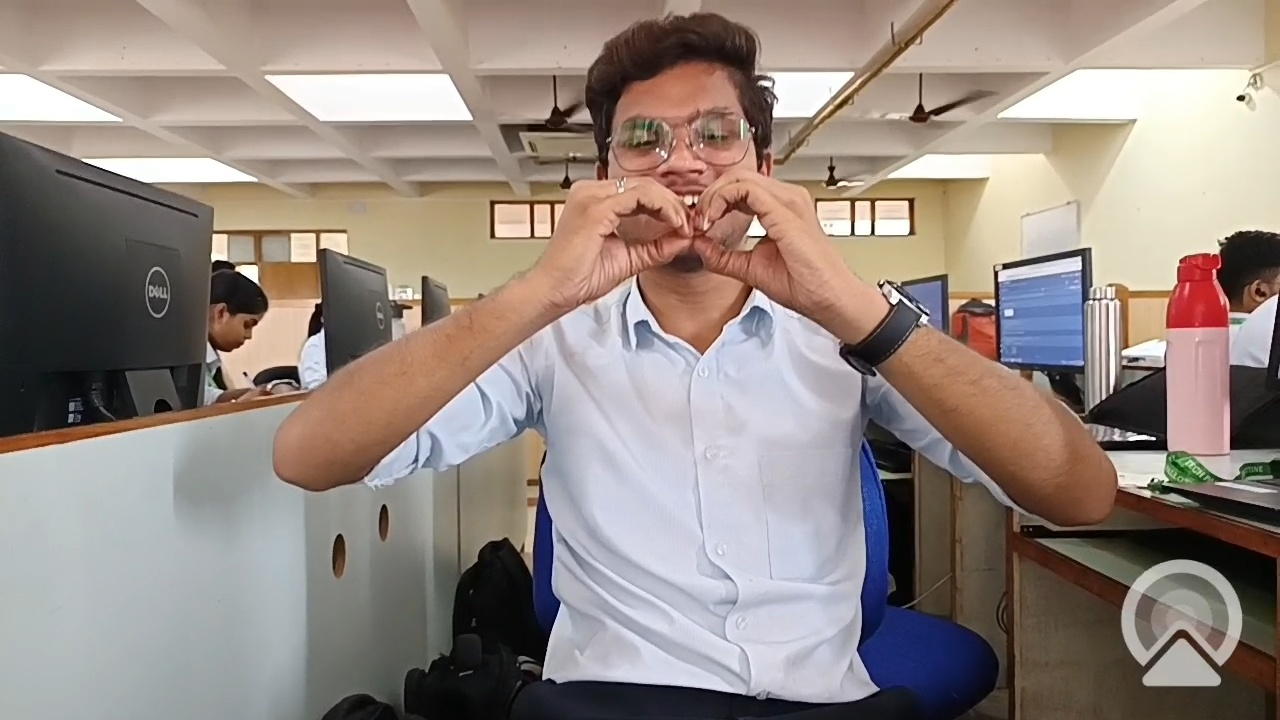B: (494, 145, 866, 352)
